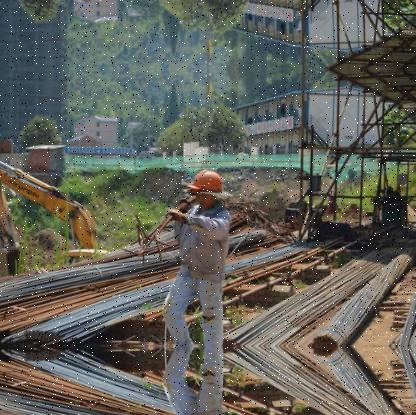helmet: (182, 165, 225, 208)
